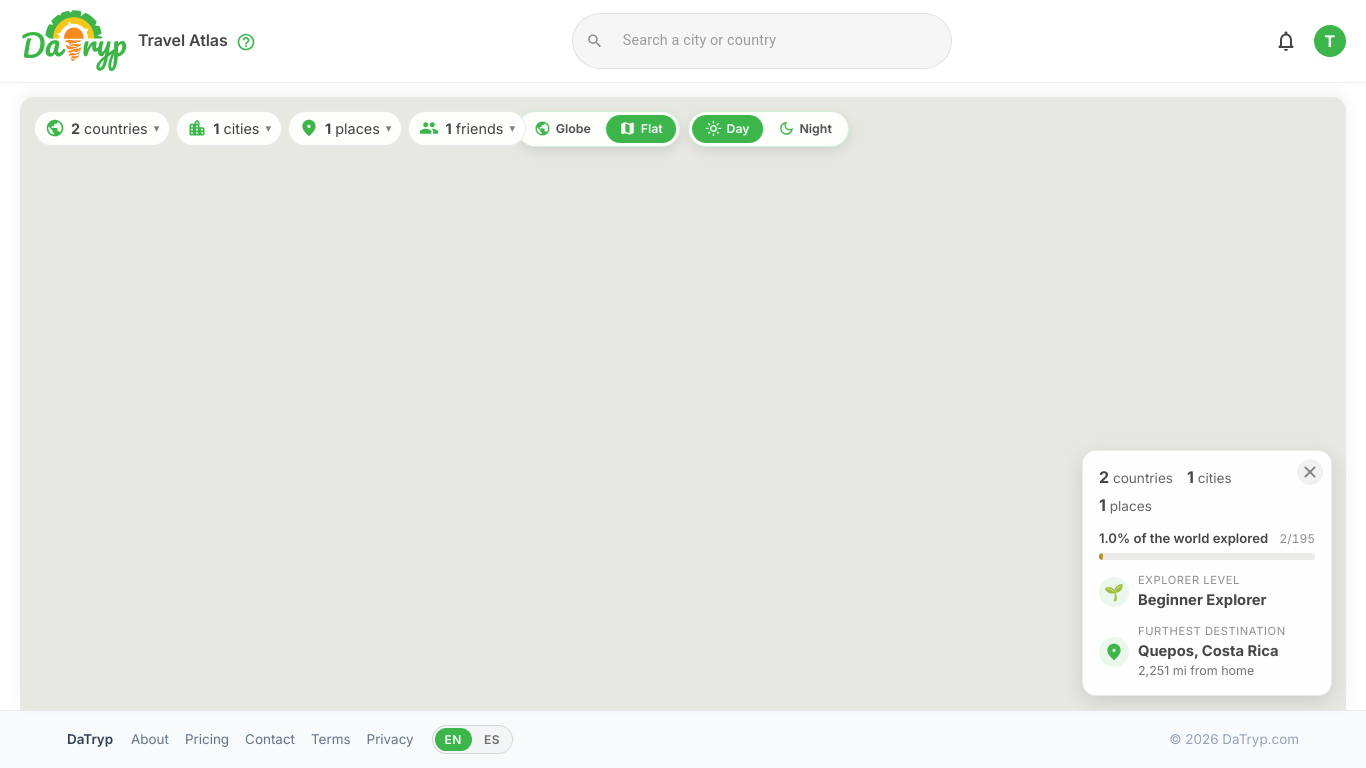
MyMap — About panel + toggle pills › opens the About intro from the title help button
The image size is (1366, 768).
Click the button named "About Travel Atlas" at (246, 42), box 234,30 -> 258,54
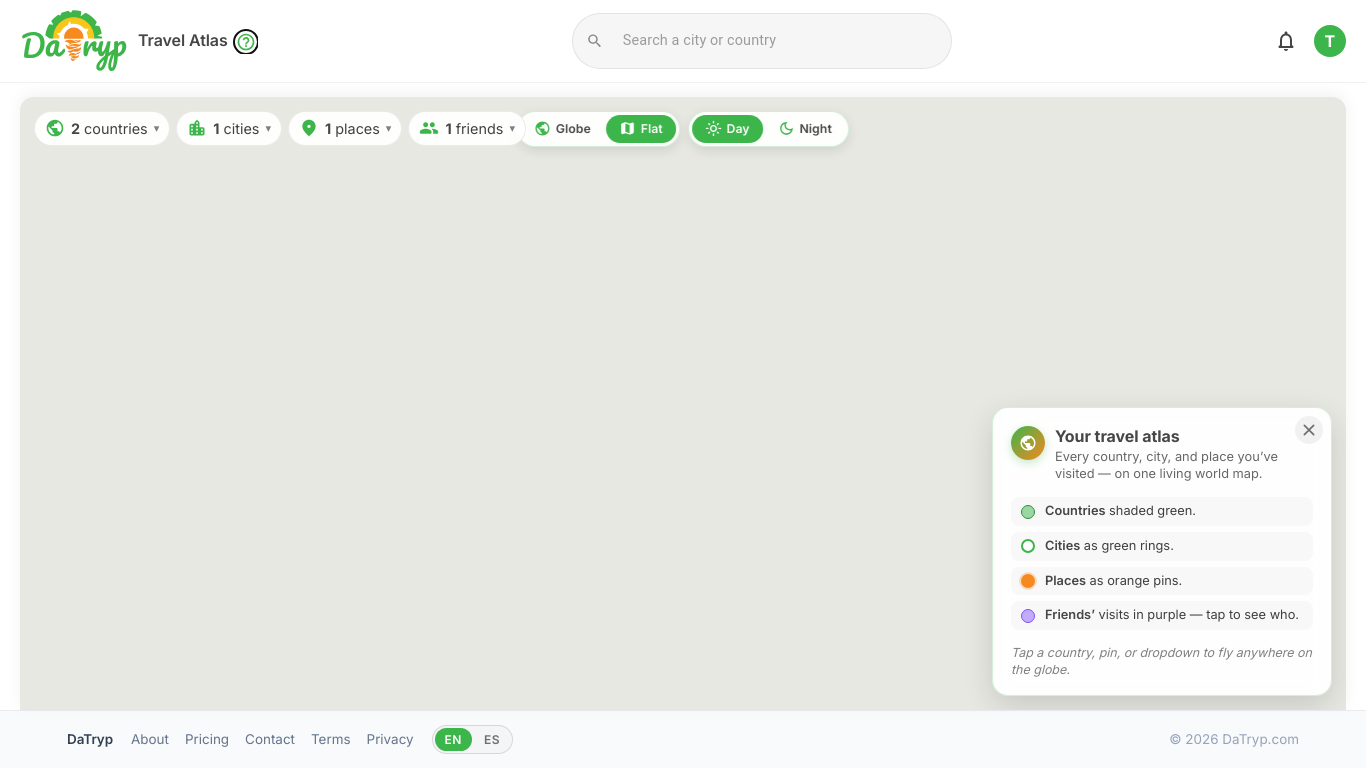
Check: the heading "Your travel atlas" is shown, box 1055,426 -> 1180,446
